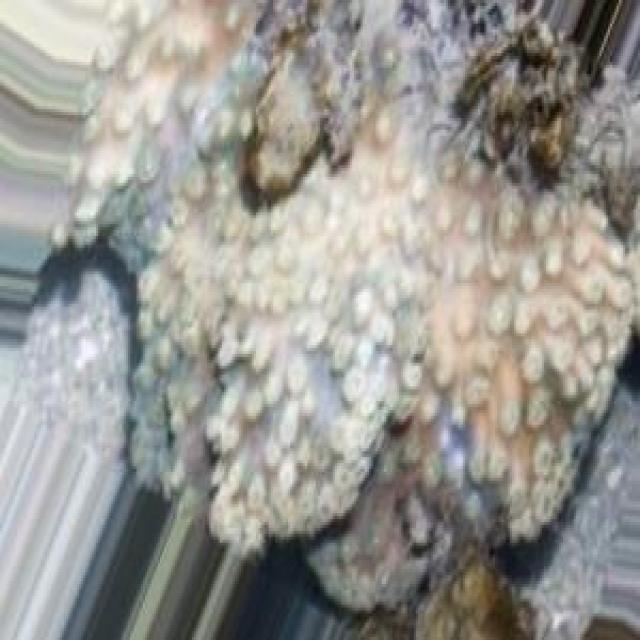Bleached: (133, 140, 637, 555)
